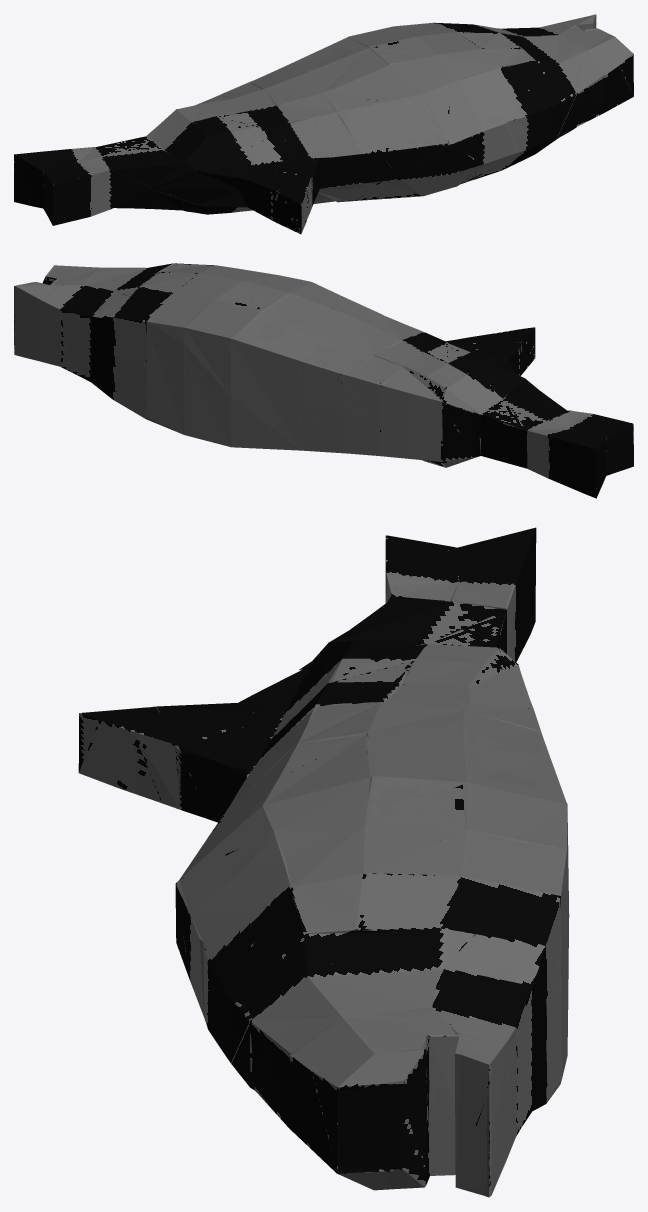
3 renders of one model, top to bottom at view 1: azimuth 30°, elevation 25°; view 2: azimuth 150°, elevation 25°; view 3: azimuth 270°, elevation 25°, orthographic. The views are drawn at different scales.
Parts seen in each view (by area): view 1: OBJ0b6; view 2: OBJ0b6; view 3: OBJ0b6.
Part boxes in pixels (x1=…): OBJ0b6: x1=14, y1=14, x2=633, y2=234; OBJ0b6: x1=14, y1=263, x2=633, y2=498; OBJ0b6: x1=78, y1=527, x2=569, y2=1197.
Bounding box in the file's own units: 0.3353 × 0.0703 × 0.1247.
Materials: 1 (1 with a texture image).
